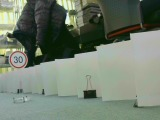speed_30: (7, 49, 28, 69)
